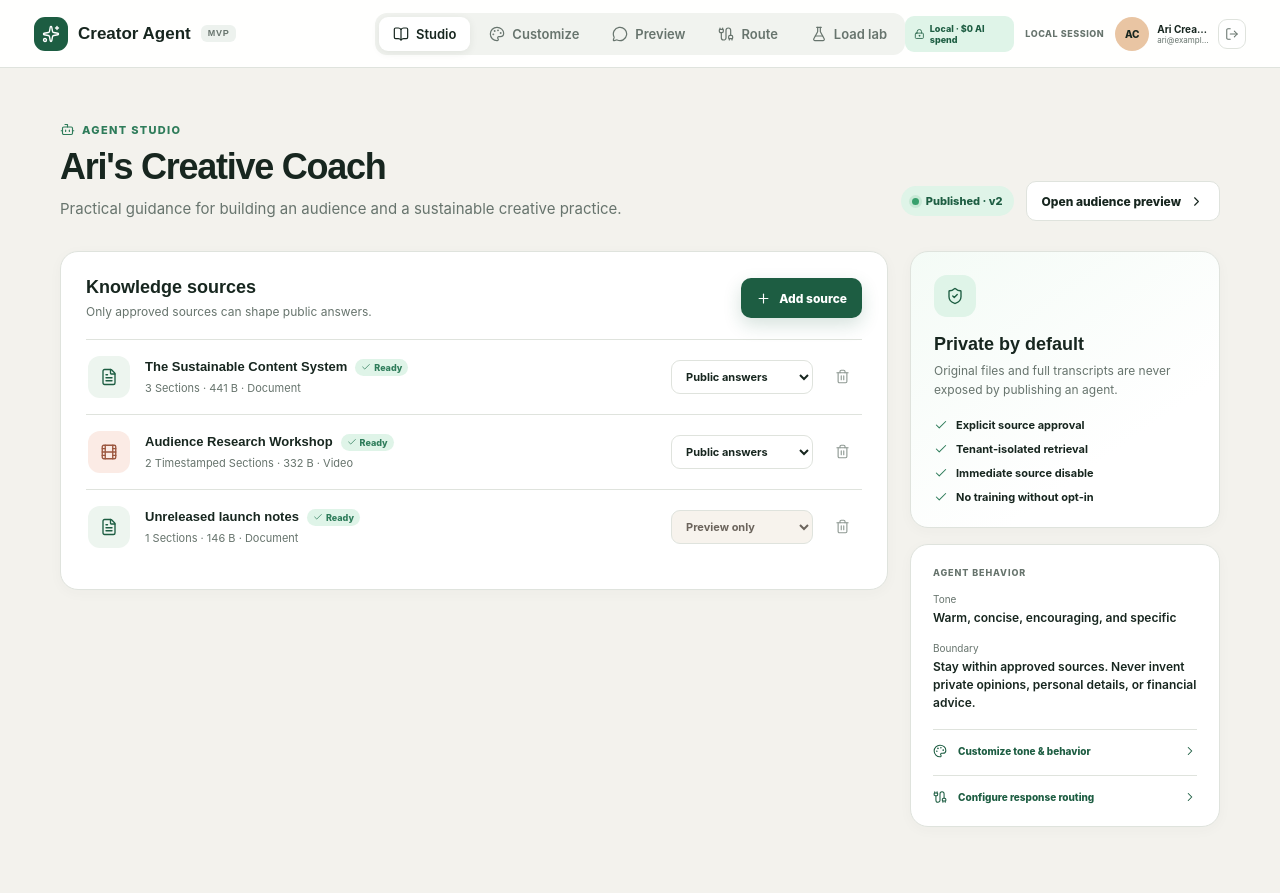
Test: Creator Agent simulator › updates load results when traffic increases
Click the button "Load lab": (849,34) 797,16 -> 901,50
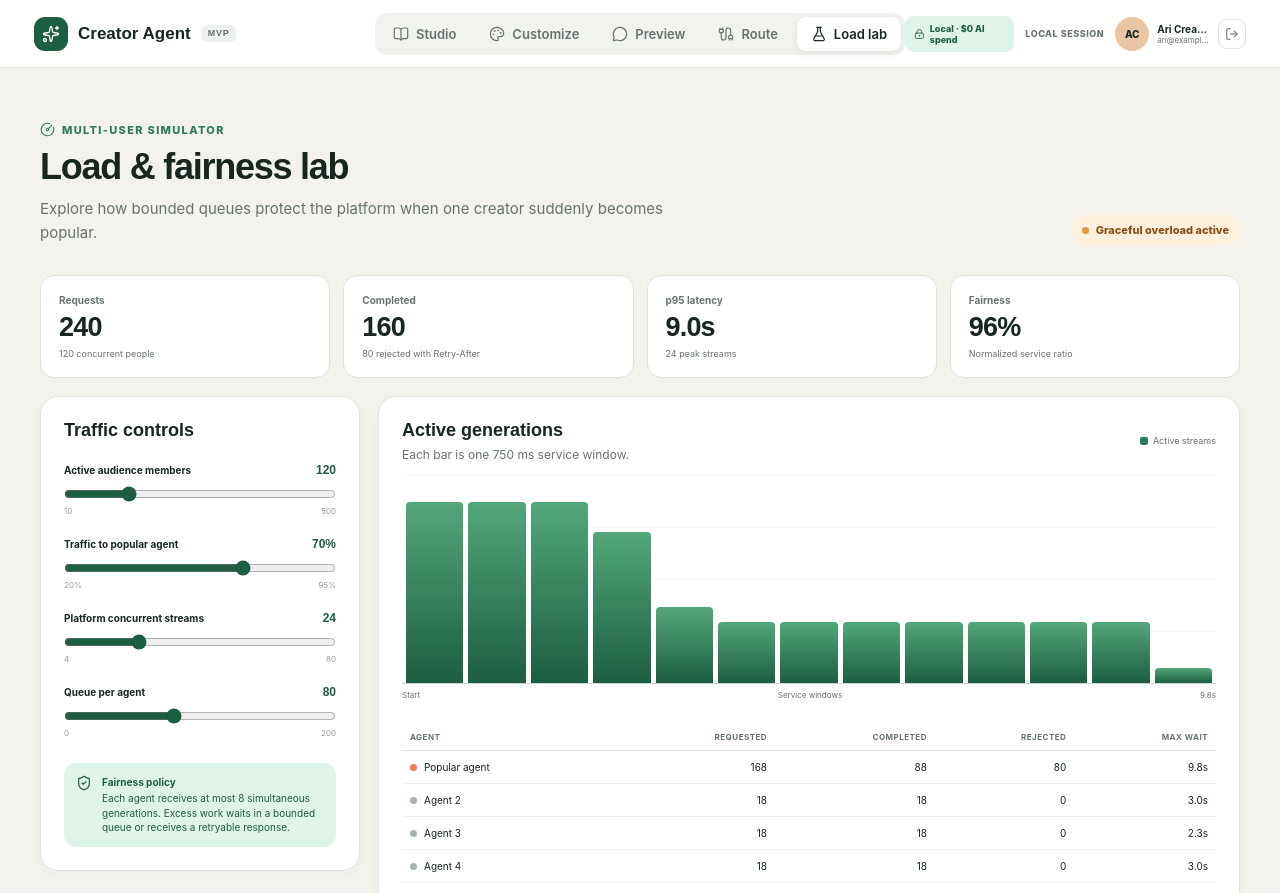
Set the slider named "active audience members" to "500": (328,494) 64,486 -> 336,502
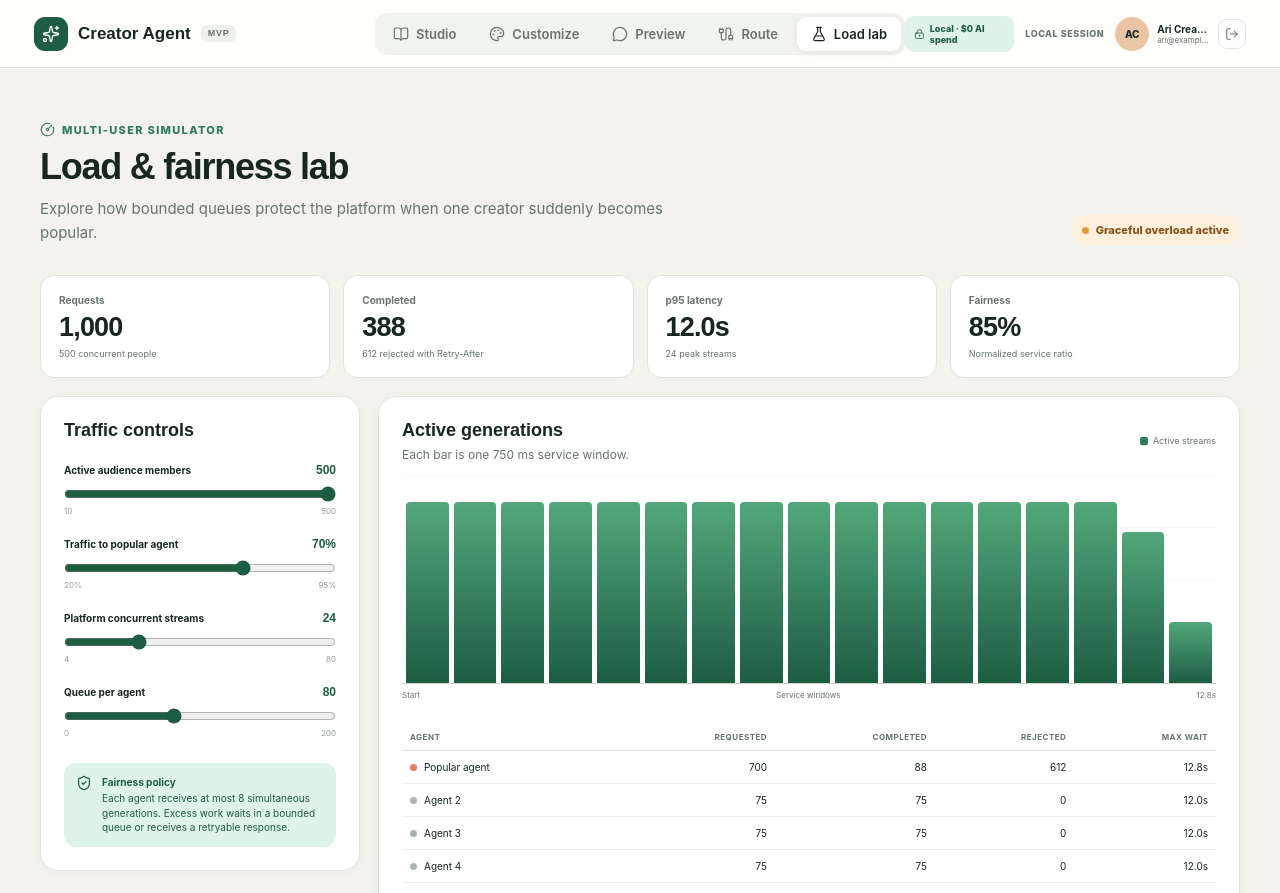
expect the text "Graceful overload active" is shown: met, box 1071,215 -> 1240,245
expect the text "1,000" is shown: met, box 59,312 -> 122,342
